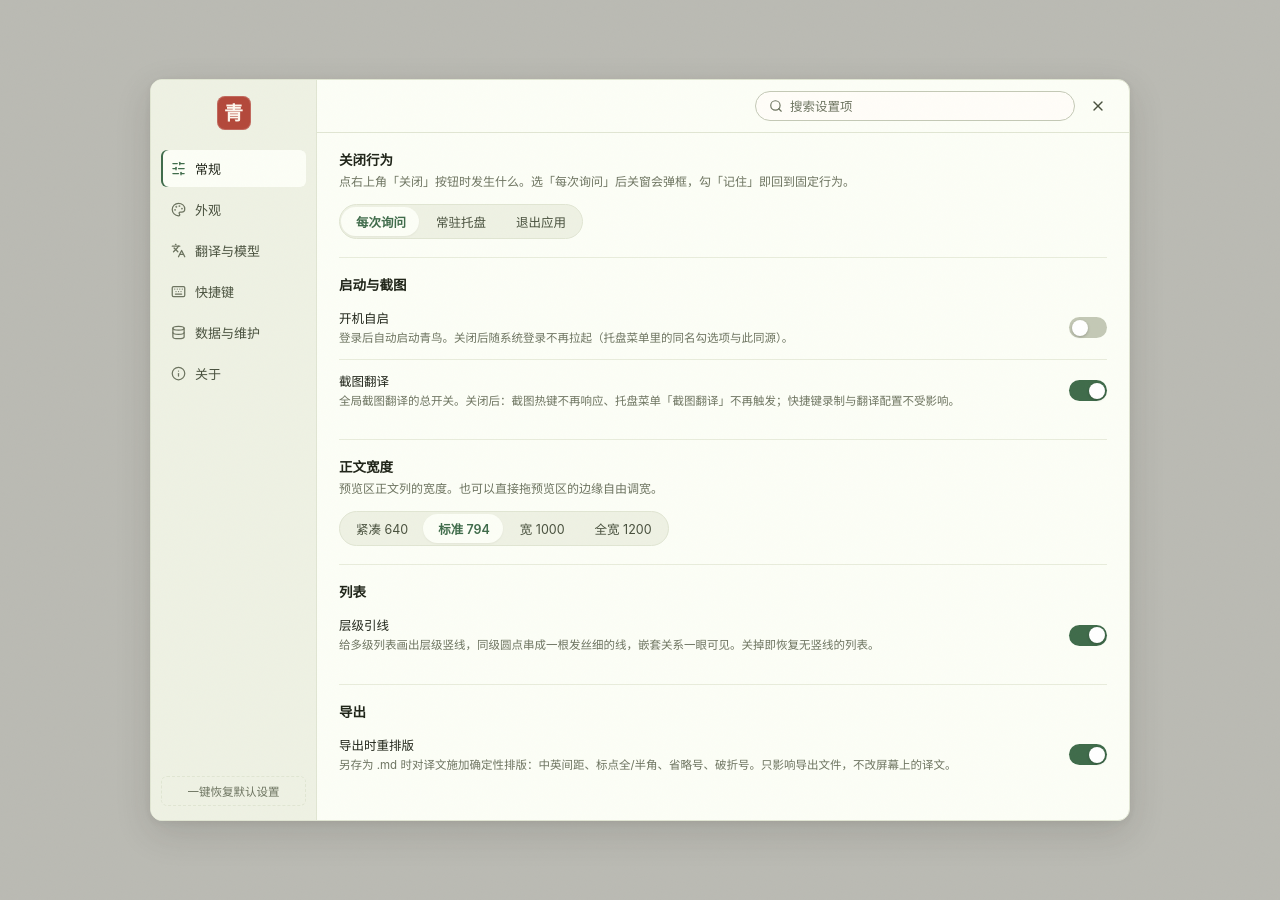
Test: 翻译与模型页 › LLM 组用协议胶囊而非下拉，Anthropic 占位且禁用
The width and height of the screenshot is (1280, 900).
Click the button with class "set-nav-item" showing "翻译与模型": (234, 250) [161, 232, 306, 269]
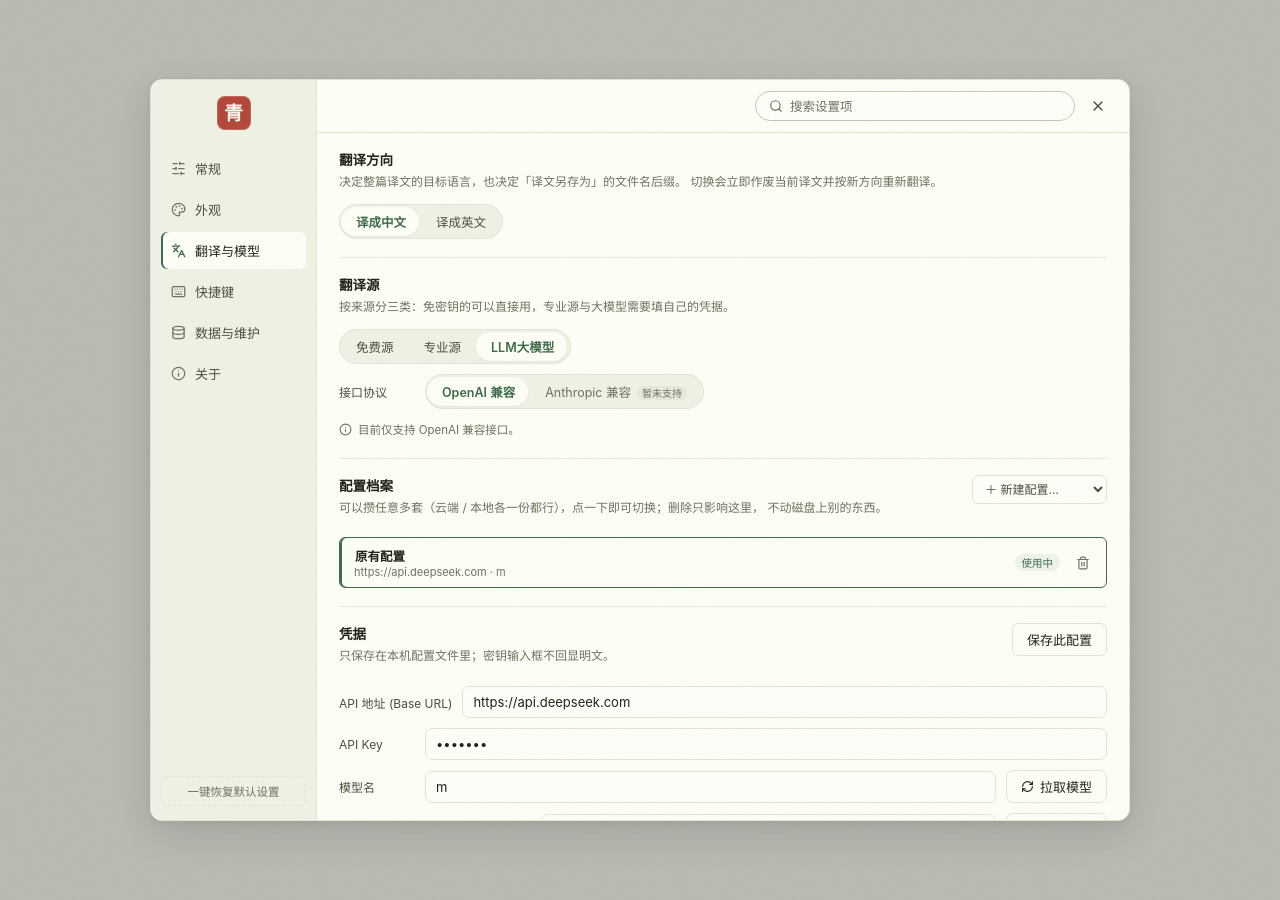
expect the button "OpenAI 兼容" is enabled: met, box [428, 377, 529, 406]
expect the button with aria-label "暂未支持，后续版本再考虑" is disabled: met, box [531, 377, 701, 406]
expect the button with aria-label "暂未支持，后续版本再考虑" shows "暂未支持": met, box [531, 377, 701, 406]
